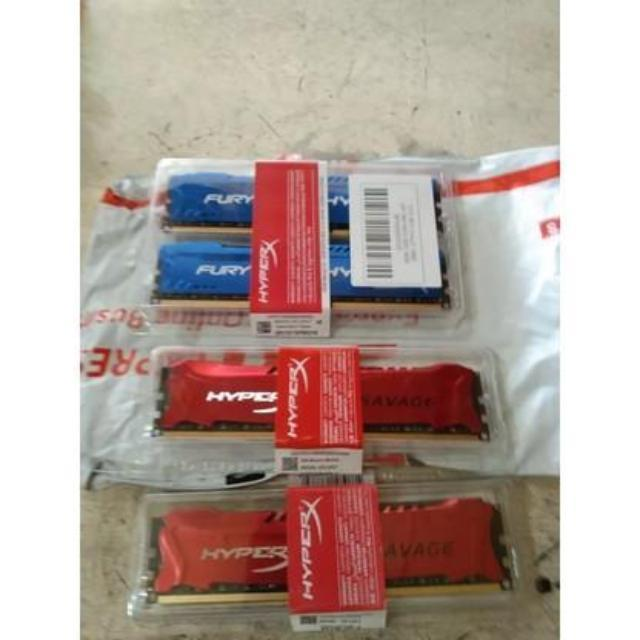RAM: (139, 144, 461, 339), (95, 490, 550, 608), (124, 340, 502, 454)
